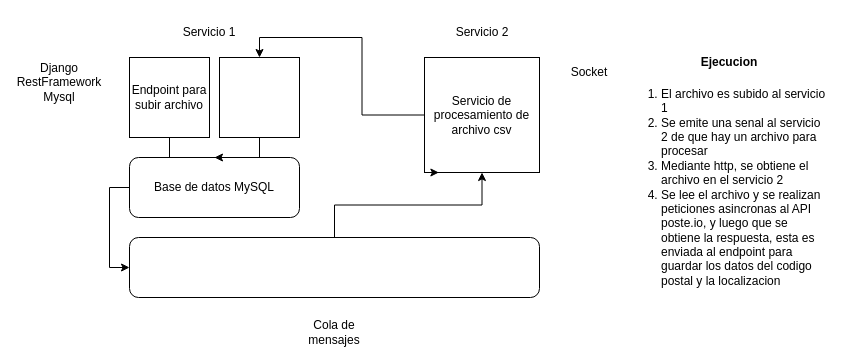
Image size: 847x364. Some labels were removed from this diagram. Each missing label, with the centre of its shape:
"Broker RabbitMQ" goes at pixel 334 267.
"Endpoint para guardar datos procesados" goes at pixel 259 97.
